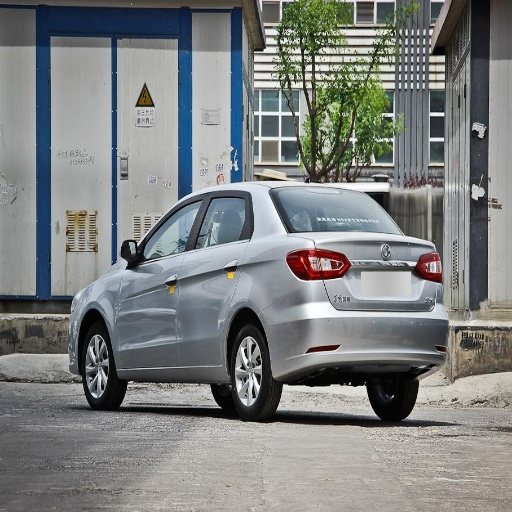back_bumper: (264, 279, 449, 381)
back_glass: (269, 186, 398, 233)
back_left_door: (179, 193, 250, 366)
tailgate: (315, 231, 422, 306)
